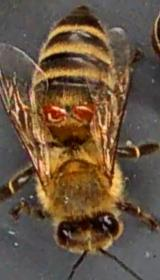varroa_mite: (69, 101, 101, 127), (41, 98, 70, 122)
